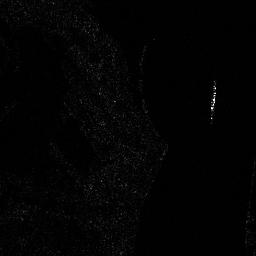ship: (208, 78, 218, 121)
